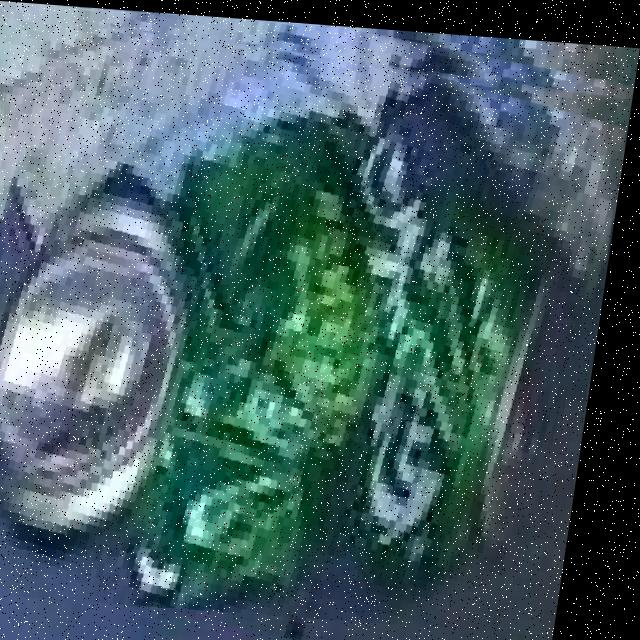litter: (0, 55, 620, 620)
